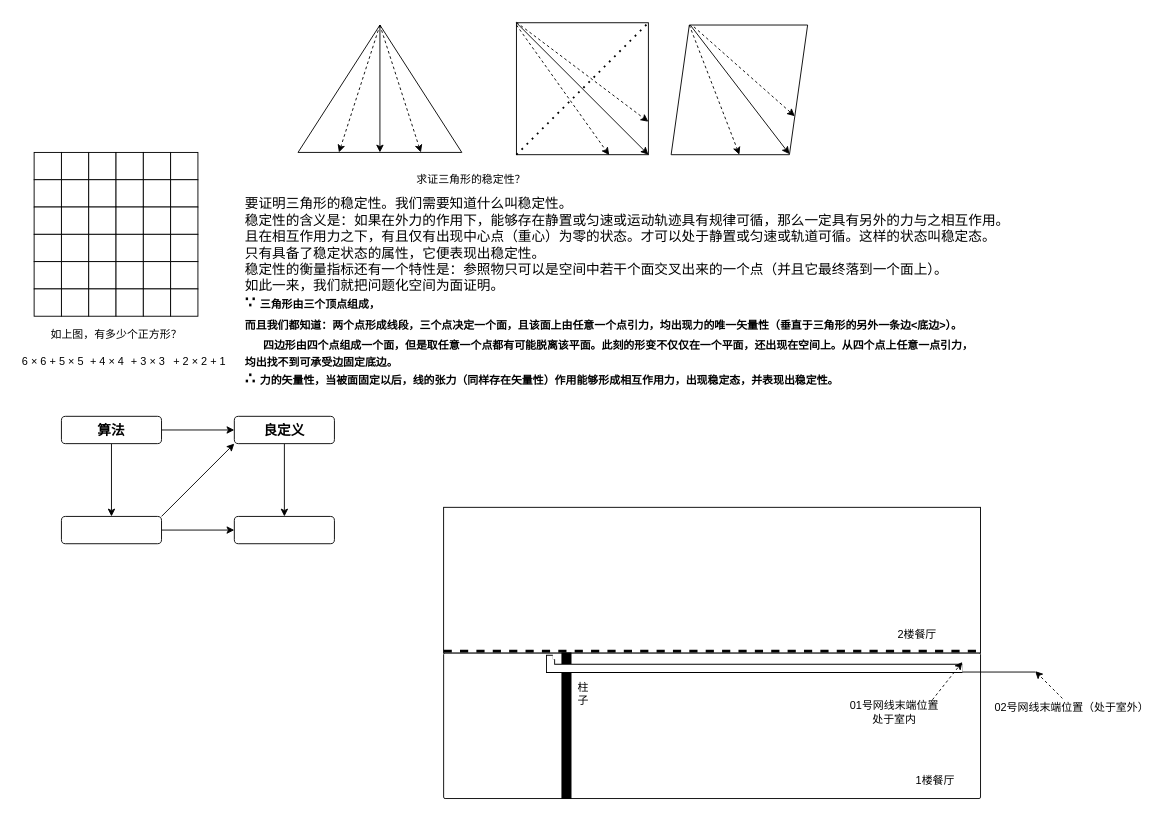
Image size: 1168x814. Some labels were removed from this diagram. The box of each missing label's shape, as (x1, y1, x2, y2) in pixels:
求解良说明: (61, 516, 162, 544)
计算问题: (233, 516, 334, 544)
